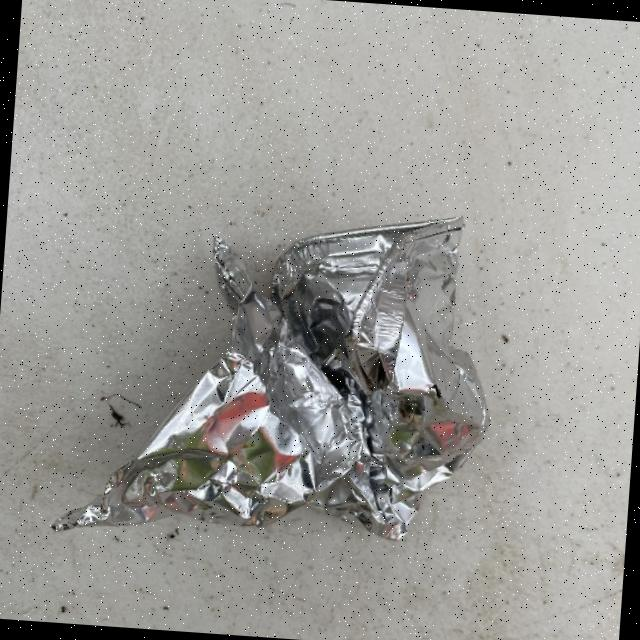metal: (49, 186, 503, 562)
